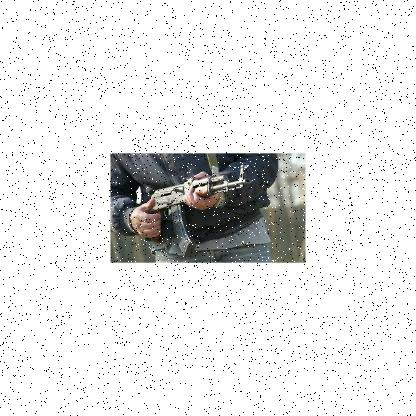gun: (134, 164, 252, 258)
